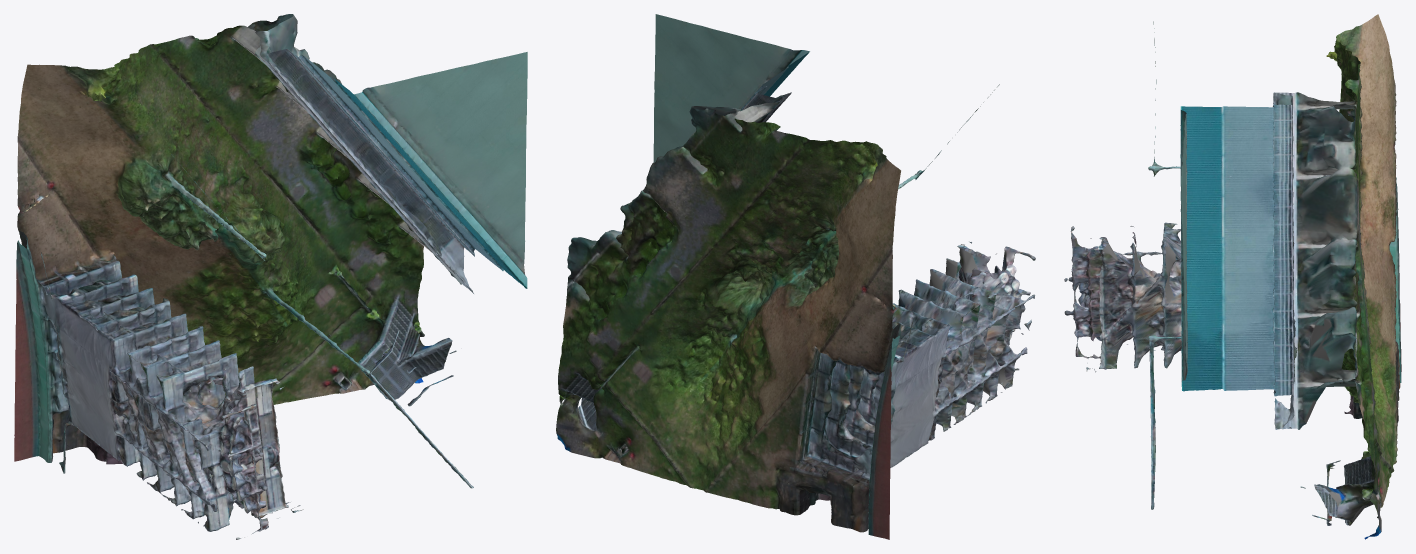
The model's file is Tile_+019_+007.fbx.
3 views of the same model, side by side, from view 1: azimuth 30°, elevation 25°; view 2: azimuth 150°, elevation 25°; view 3: azimuth 270°, elevation 25° (orthographic). The views are drawn at different scales.
Visible parts, largest first — view 1: DefaultName; view 2: DefaultName; view 3: DefaultName.
Part boxes in pixels (bbox=[...]): DefaultName: bbox=[14, 14, 527, 539]; DefaultName: bbox=[556, 14, 1035, 539]; DefaultName: bbox=[1064, 14, 1401, 539].
Bounding box in the file's own units: 22.54 × 22.54 × 19.2.
